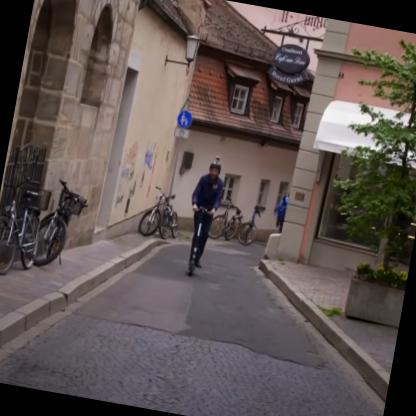helmet: (202, 154, 227, 186)
human: (191, 155, 227, 263)
kickboard: (184, 264, 204, 282)
